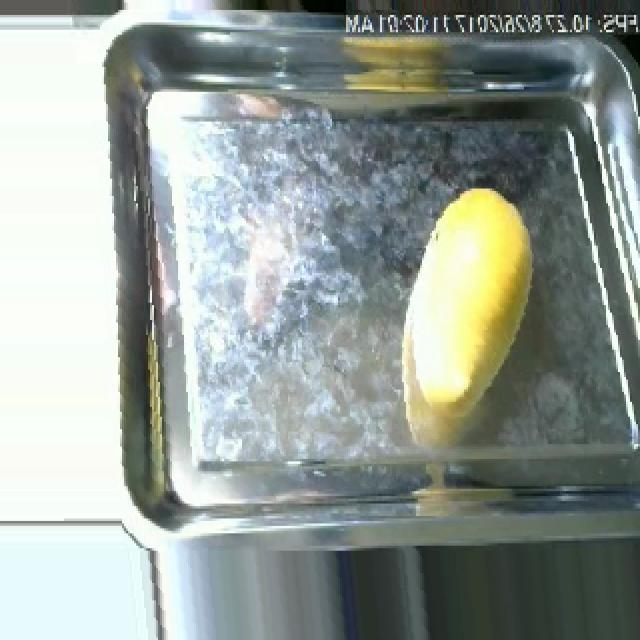fruit: (386, 166, 570, 419)
